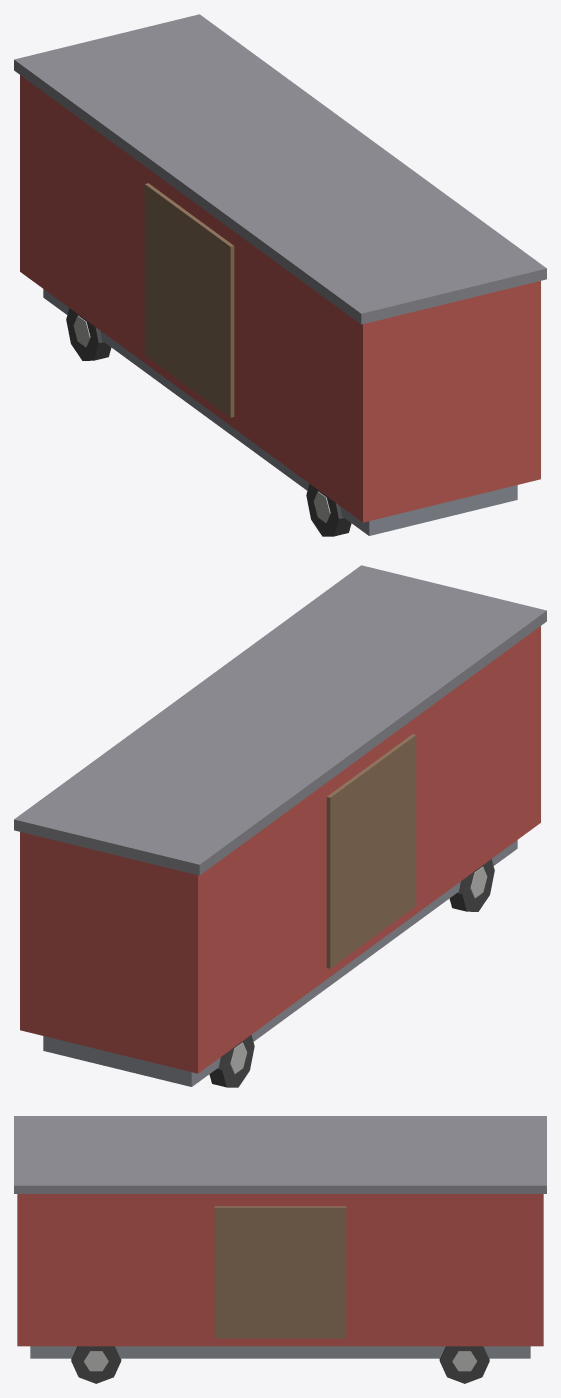
File: boxcar.glb
3 renders of one model, top to bottom at view 1: azimuth 30°, elevation 25°; view 2: azimuth 150°, elevation 25°; view 3: azimuth 270°, elevation 25°, orthographic. The views are drawn at different scales.
Parts seen in each view (by area): view 1: boxcar; view 2: boxcar; view 3: boxcar.
Boxes of the visible parts, x1=… form: boxcar: x1=14, y1=14, x2=546, y2=536; boxcar: x1=14, y1=565, x2=546, y2=1087; boxcar: x1=14, y1=1116, x2=546, y2=1383.
Size of the model in its own units: 2.5 by 3.42 by 8.1.
